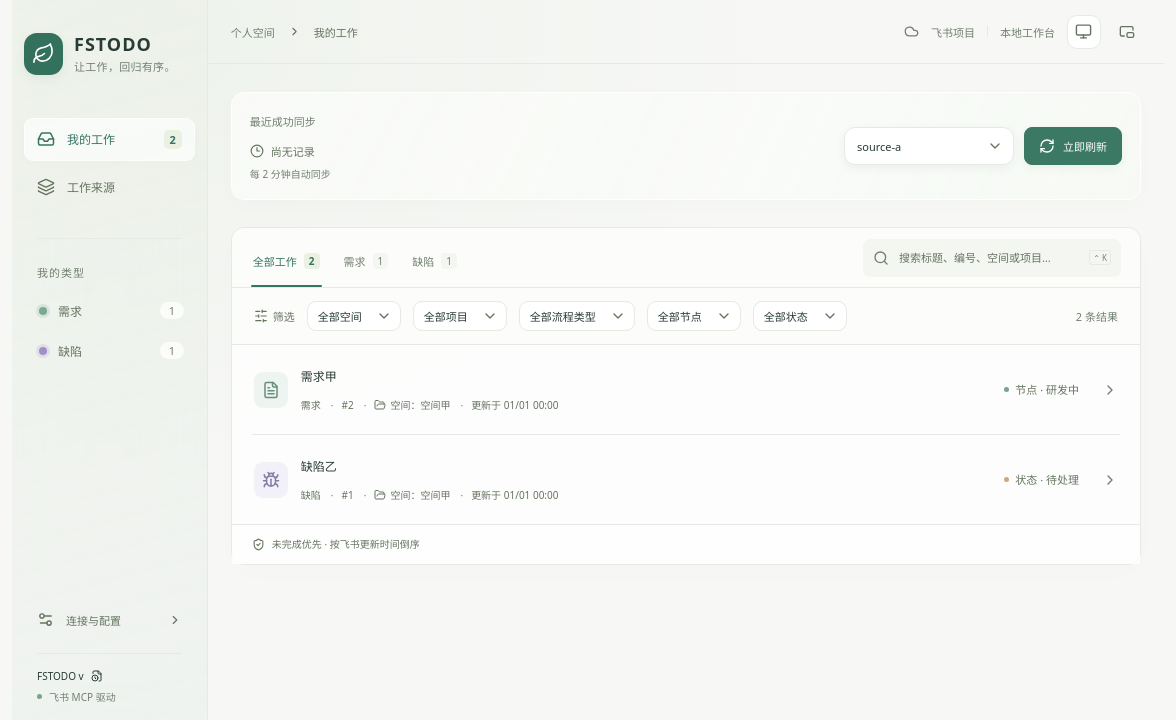
Scenario: 清单模式 › 只有被截断的标题在悬停 300ms 后原位展开，按 Esc 收起，提前移开不展开
Expected: the text "需求甲" is shown, [301,368,337,385]
Click the button named "切换到清单模式". click: (1127, 32)
box: [1113,18,1141,46]
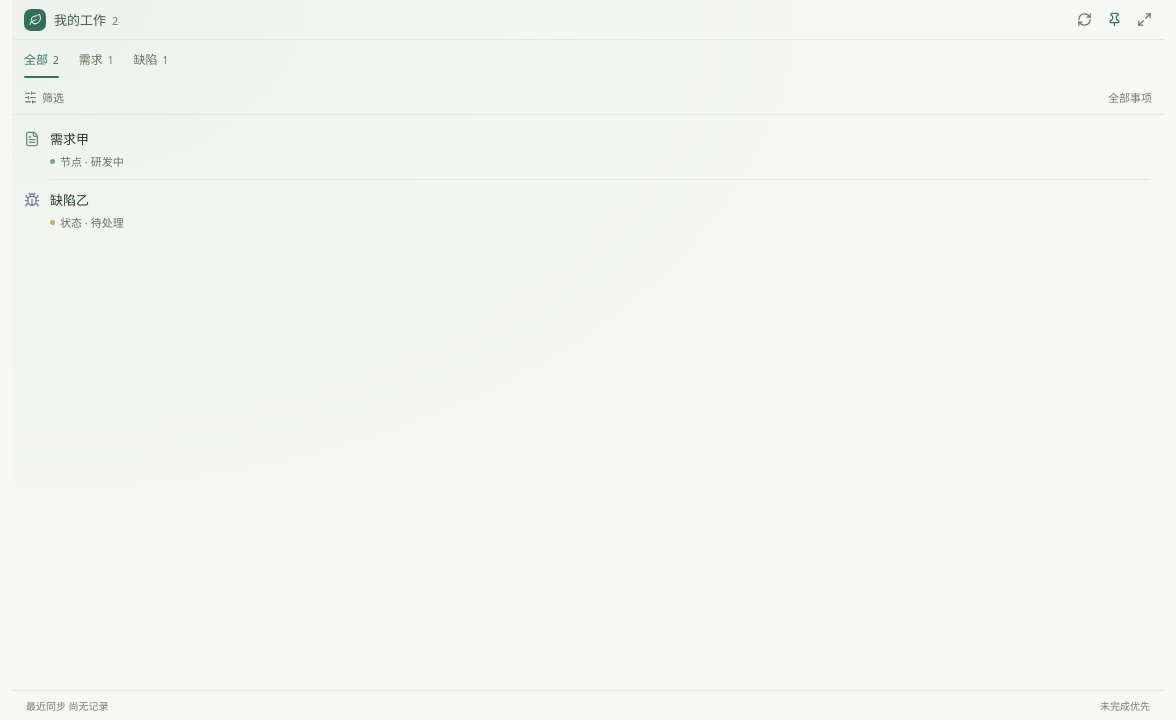
Hover over the button "缺陷乙 状态 · 待处理" at (70, 200), box [12,180,1164,241]
Move the pointer off the button "需求甲 节点 · 研发中", box [12,119,1164,180]
Hover over the button "需求甲 节点 · 研发中" at (70, 139), box [12,119,1164,180]
Wait 300 ms
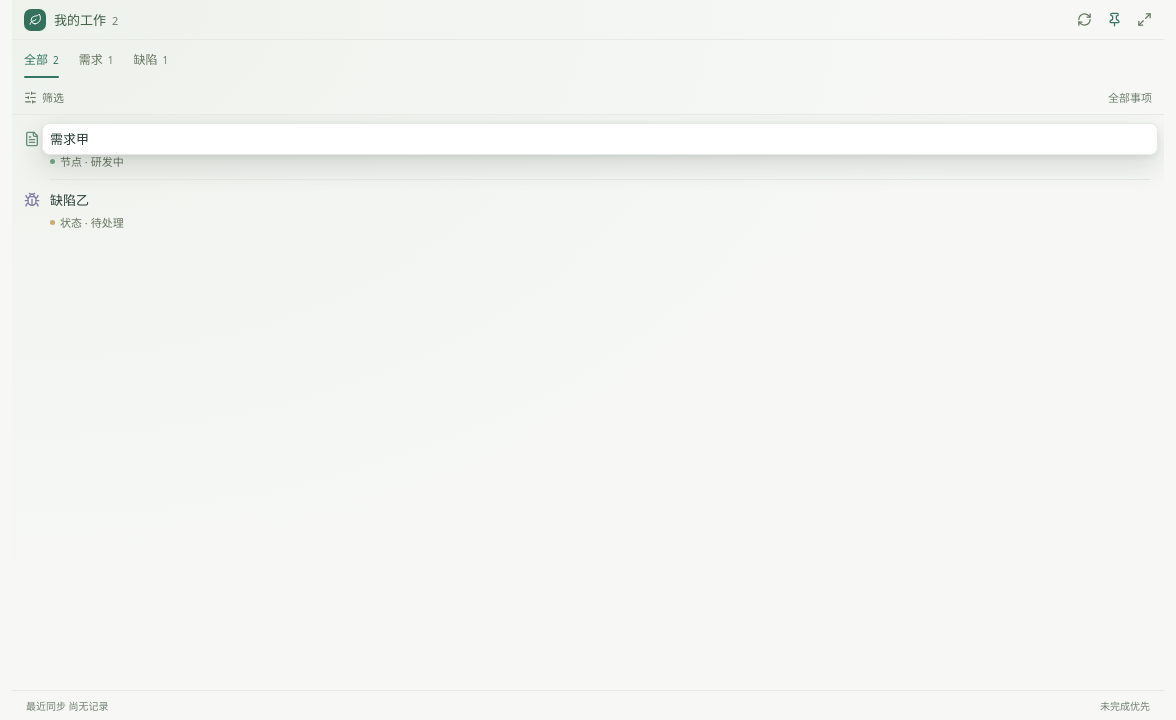
Expected: the text with class "list-mode-peek" reads "需求甲", [50,130,89,148]
Press Escape
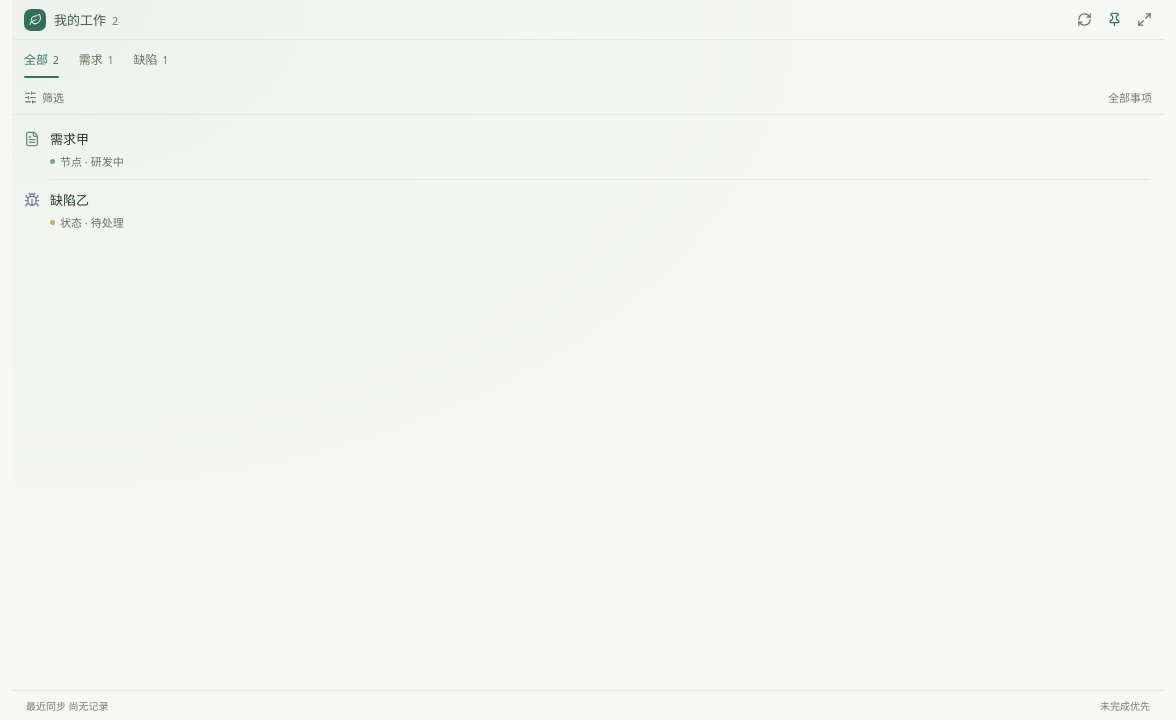
Expected: the text with class "list-mode-peek" is gone
